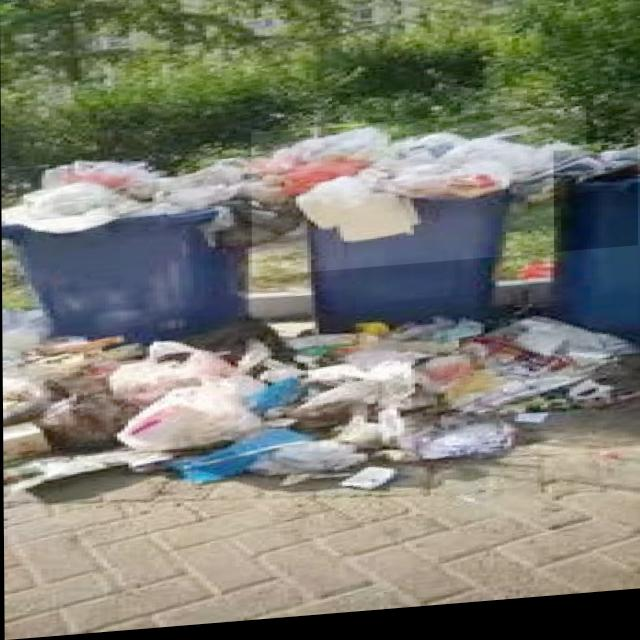garbage: (2, 256, 639, 519)
overflow: (251, 116, 587, 343), (1, 150, 245, 363), (553, 155, 638, 339)
